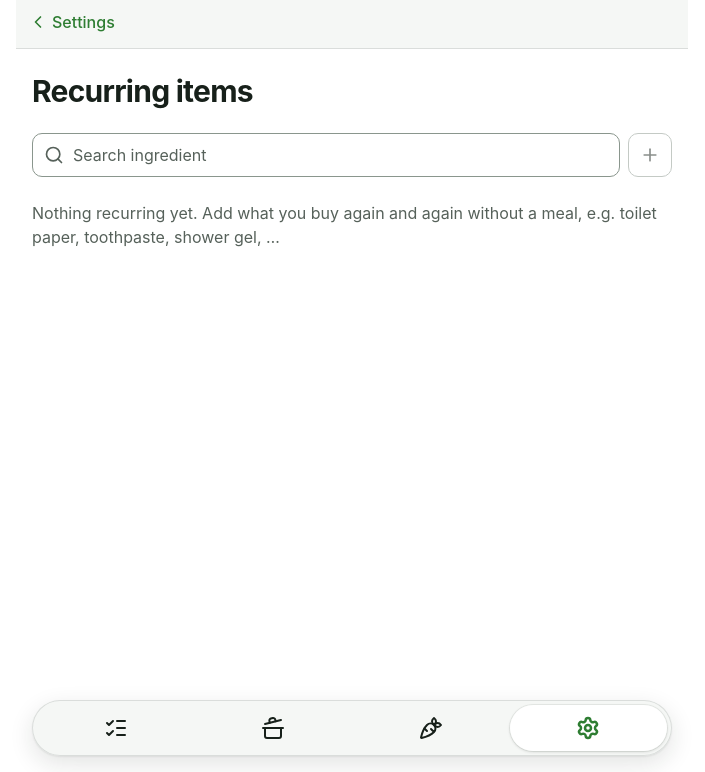
Test: the ingredient field on "Regelmäßige Artikel" (LIST-16, D-41, ING-04) › offers “as a new ingredient” right under the field, then the ingredients, no free text
Type "klo" into the search field labelled "Search ingredient" at (326, 155), box [32, 133, 620, 177]
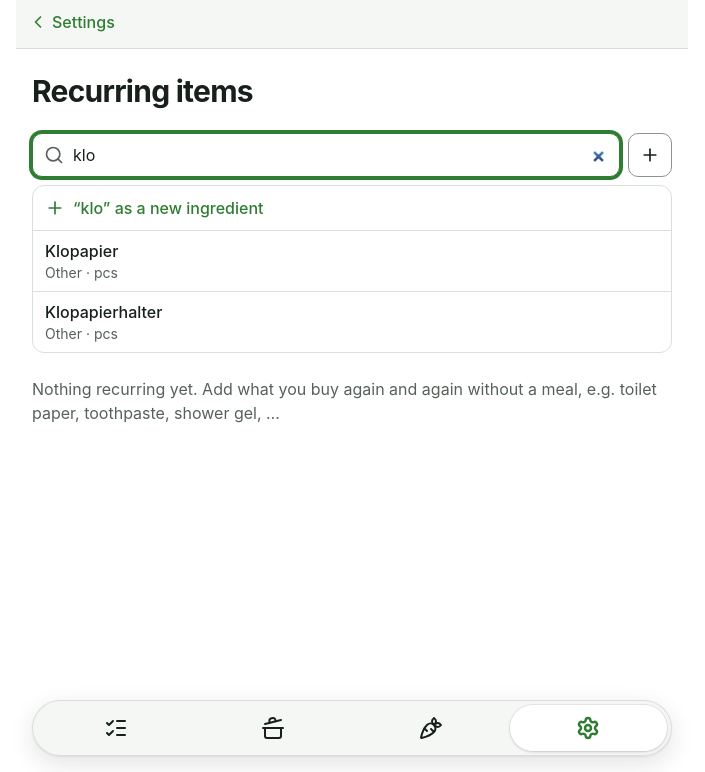
Expected: the buttons read "“klo” as a new ingredient", "KlopapierOther · pcs", "KlopapierhalterOther · pcs", in this order, [33, 186, 671, 230]; [33, 231, 671, 291]; [33, 292, 671, 352]
Expected: the button named "Add “klo”" is enabled, [628, 133, 672, 177]
